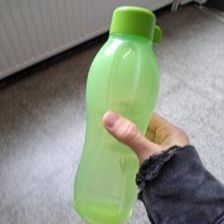bottle: (69, 4, 167, 222)
